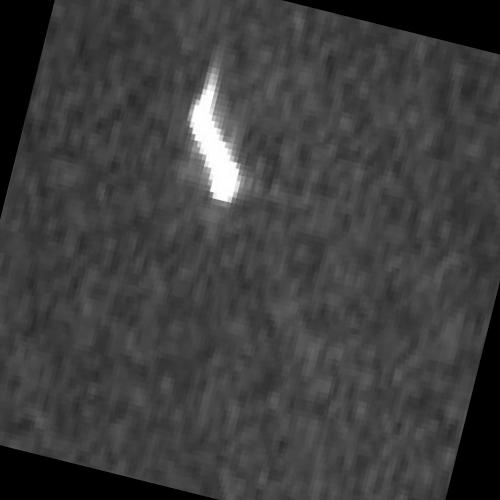ship: (188, 76, 241, 202)
